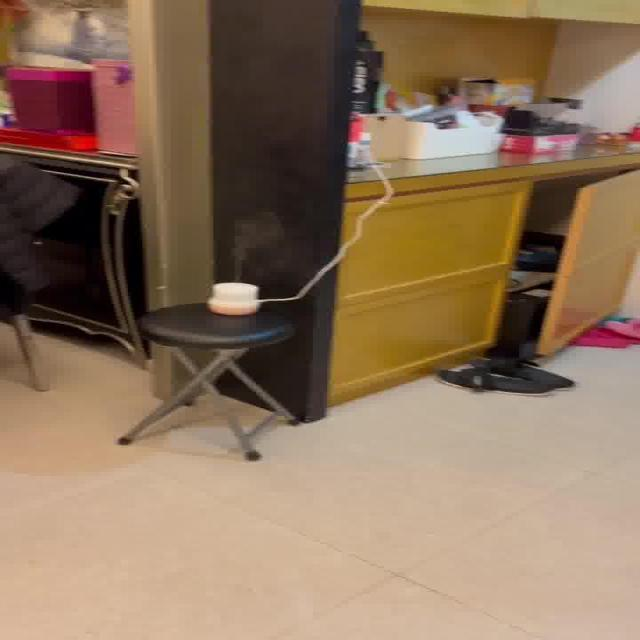fire: (221, 210, 296, 276)
